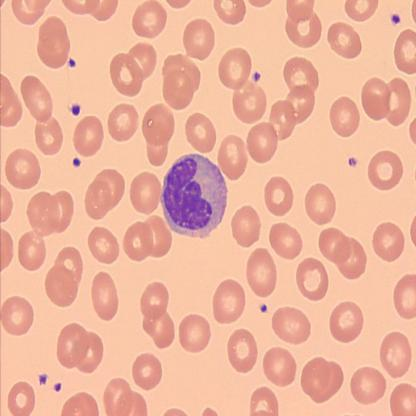Monocyte: (158, 151, 230, 243)
